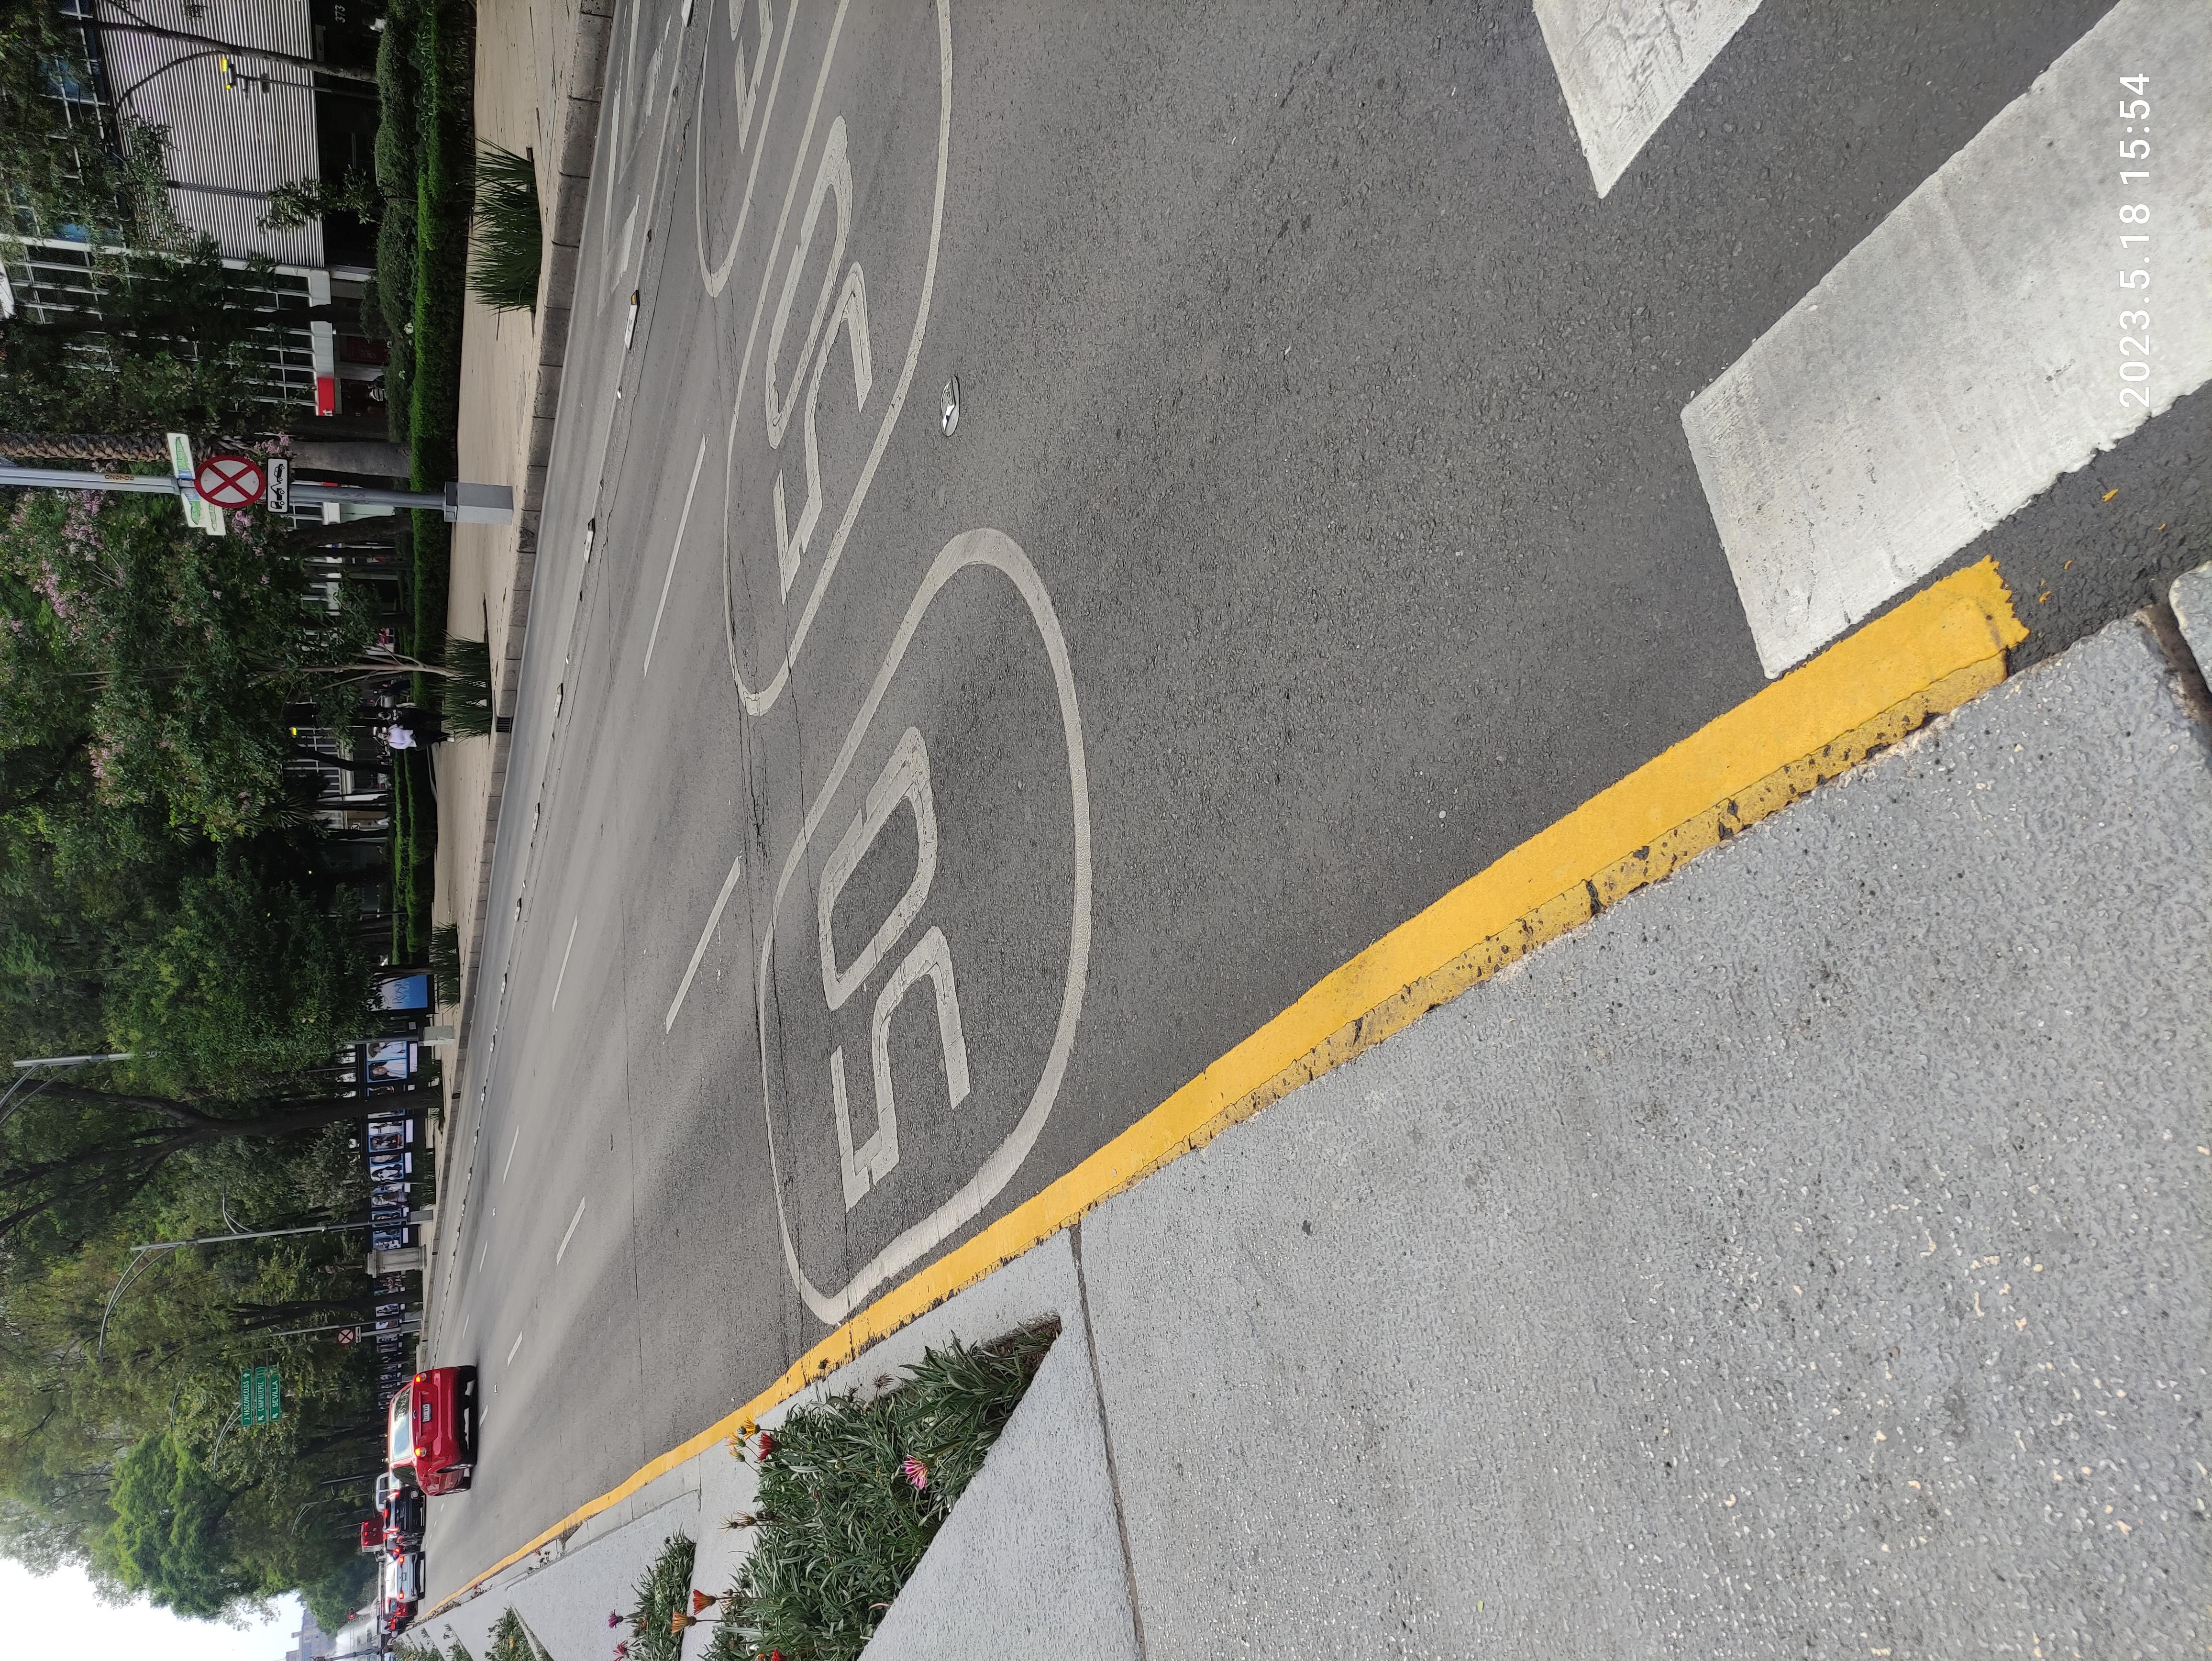crack: (391, 523, 1497, 656), (1622, 539, 1933, 560)
